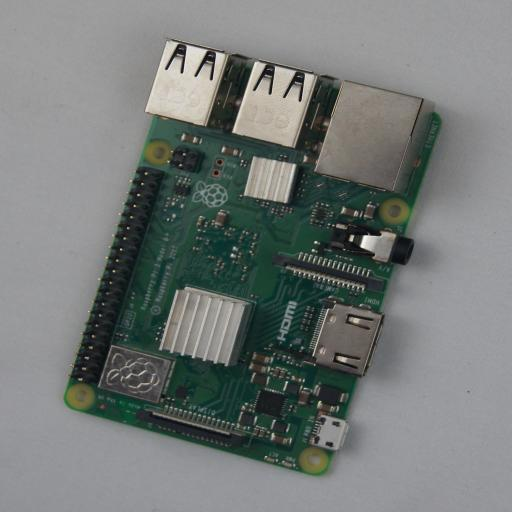Raspberry Pi 3 B-: (64, 38, 444, 476)
